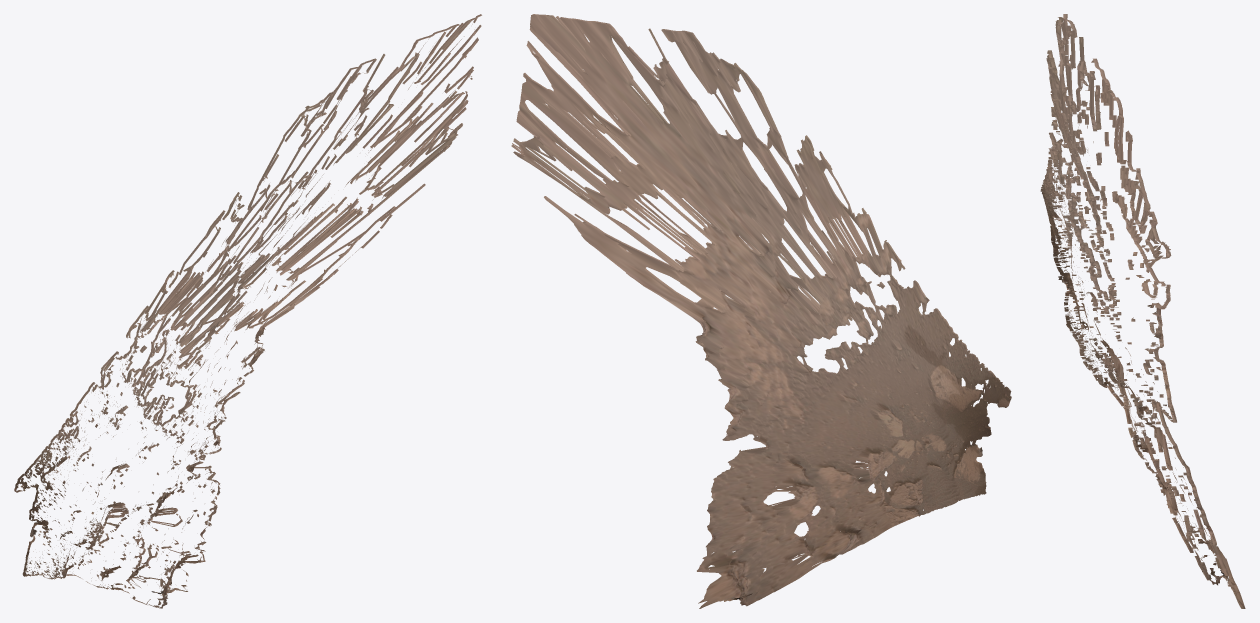
3 renders of one model, left to right at view 1: azimuth 30°, elevation 25°; view 2: azimuth 150°, elevation 25°; view 3: azimuth 270°, elevation 25°, orthographic. The views are drawn at different scales.
Size of the model in its own units: 15.59 by 16.71 by 4.83.
Materials: 1 (1 with a texture image).
